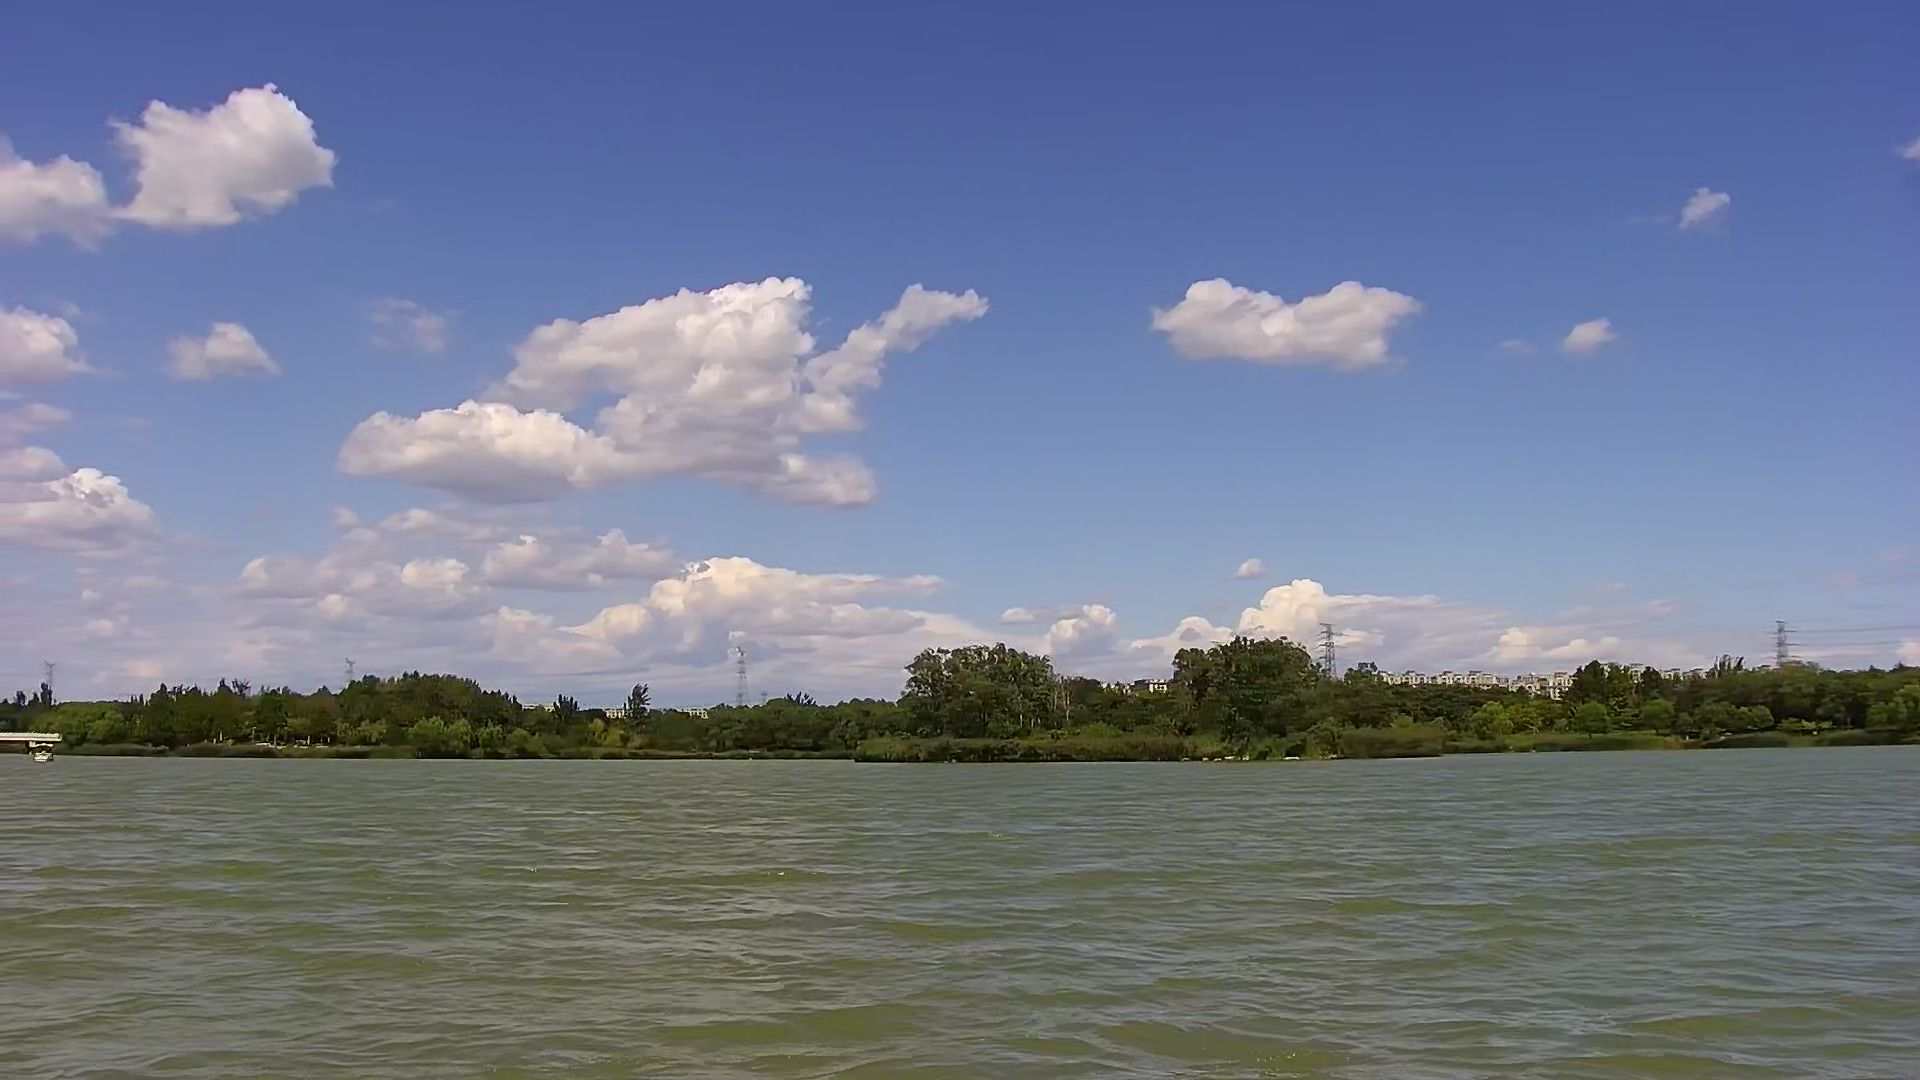boat: (26, 738, 61, 774)
bridge: (3, 724, 61, 758)
